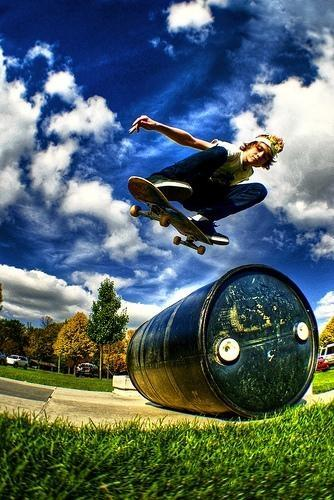car: (74, 362, 99, 378), (5, 355, 30, 370), (323, 343, 334, 365), (316, 357, 328, 372)
